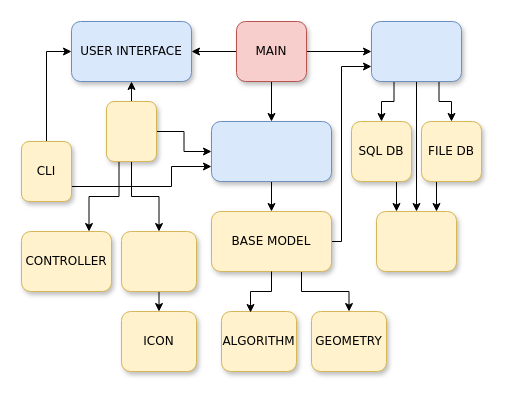
Some shapes in this 505 by 396 pixel diagram are drawn without their labels. The centre of each missing label's shape, as x and y in pixels:
"DB ENTITIES" belongs at [417,242].
"DB INTERFACE" belongs at [417,52].
"GUI" belongs at [132,132].
"MODEL INTERFACE" belongs at [272,152].
"WIDGET" belongs at [159,262].
